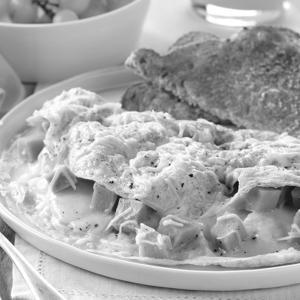omelet: (7, 54, 291, 262)
